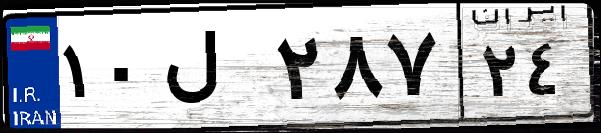0: (110, 28, 158, 98)
1: (57, 26, 110, 100)
2: (270, 28, 330, 110), (475, 38, 525, 113)
4: (525, 38, 570, 115)
7: (385, 28, 445, 110)
8: (330, 28, 385, 110)
ل: (158, 20, 270, 120)
